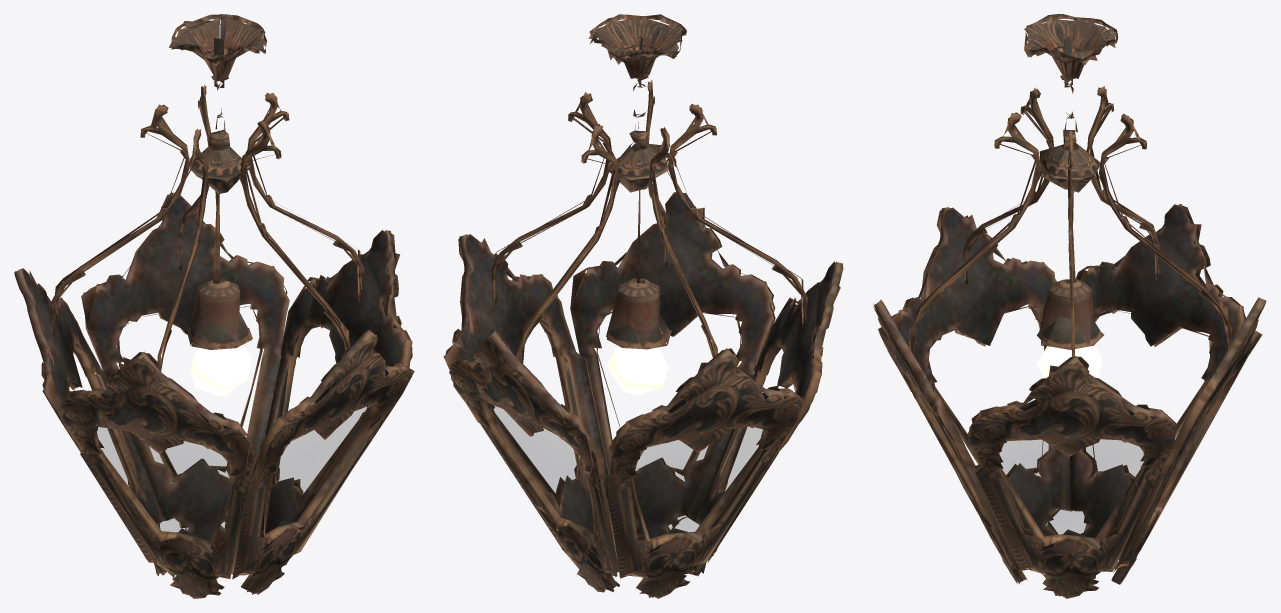
File: ph_lantern_chandelier_01.glb
3 renders of one model, left to right at view 1: azimuth 30°, elevation 25°; view 2: azimuth 150°, elevation 25°; view 3: azimuth 270°, elevation 25°, orthographic.
Visible parts, largest first — view 1: lantern_chandelier_01; view 2: lantern_chandelier_01; view 3: lantern_chandelier_01.
Part boxes in pixels (x1,y1,x2,y2): lantern_chandelier_01: [14, 14, 414, 598]; lantern_chandelier_01: [443, 14, 843, 598]; lantern_chandelier_01: [873, 14, 1266, 598].
Size of the model in its own units: 0.5814 by 0.8789 by 0.5746.
Materials: 3 (2 with a texture image).
